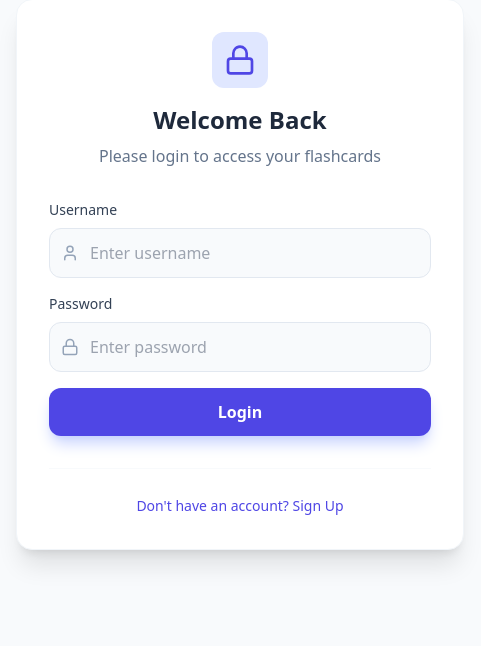
Test: Login Component › handles login error
# Fill data to avoid potential issues with 'required' (though fireEvent skips browser validation)
Type "user" into the field with placeholder "Enter username" at (240, 253), box [49,228,431,278]
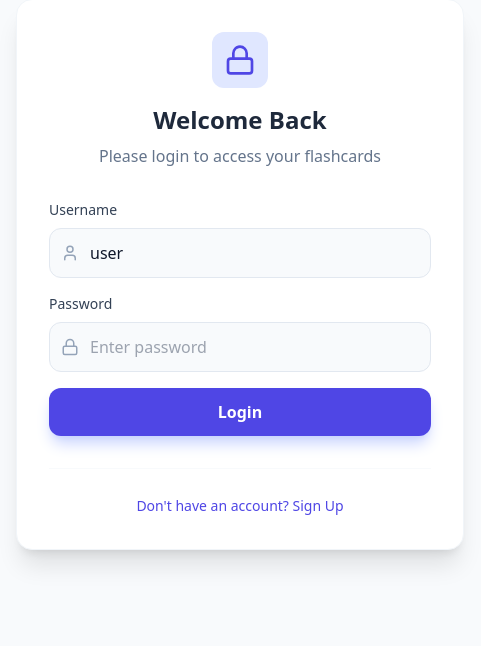
Type "pass" into the password field with placeholder "Enter password" at (240, 347), box [49,322,431,372]
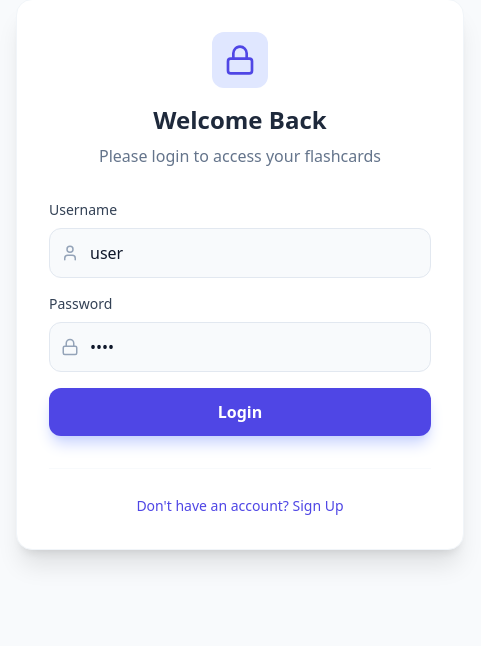
Click the button "Login" at (240, 412), box [49,388,431,436]
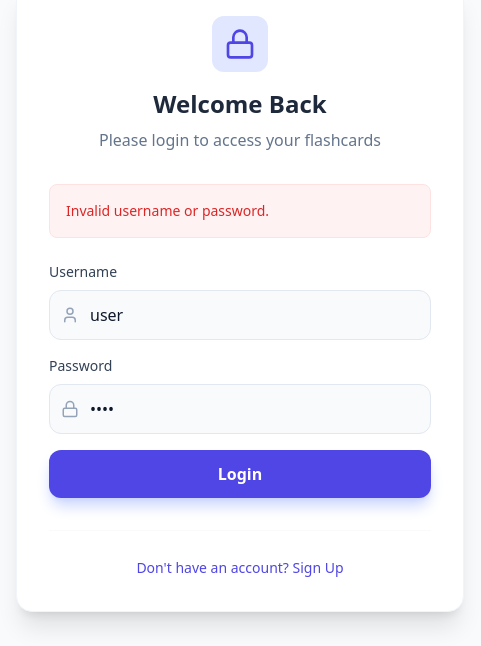
Expected: the text "Invalid username or password." is shown, [49,184,431,238]
